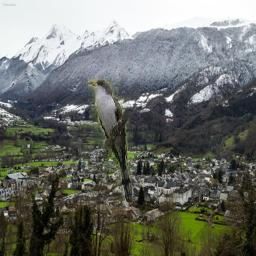Cuckoo: (89, 80, 134, 203)
